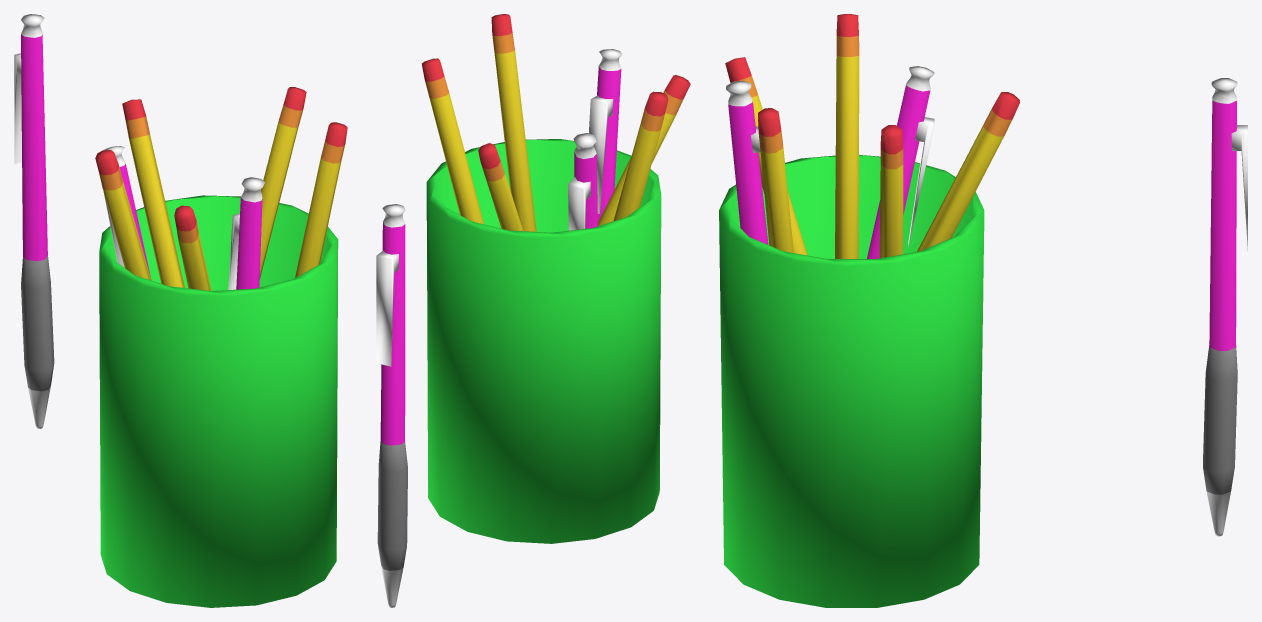
Rendered from pen pencel and cup.fbx.
The picture shows the model from 3 angles, left to right: view 1: azimuth 30°, elevation 25°; view 2: azimuth 150°, elevation 25°; view 3: azimuth 270°, elevation 25°; orthographic projection. The views are drawn at different scales.
Visible parts, largest first — view 1: Cylinder, Cube.009, Cube.002, Cube.003, Cube, Cube.006, Cube.001, Cube.004, Cube.005; view 2: Cylinder, Cube.009, Cube.003, Cube.006, Cube, Cube.001, Cube.005, Cube.002, Cube.004; view 3: Cylinder, Cube.009, Cube.001, Cube.002, Cube.006, Cube.005, Cube.003, Cube, Cube.004.
Part boxes in pixels (<box>): Cylinder: <box>99,195,338,607</box>; Cube.009: <box>14,14,54,428</box>; Cube.002: <box>122,99,184,287</box>; Cube.003: <box>295,122,347,277</box>; Cube: <box>259,87,306,279</box>; Cube.006: <box>228,177,265,289</box>; Cube.001: <box>95,150,150,280</box>; Cube.004: <box>174,205,211,290</box>; Cube.005: <box>104,146,151,279</box>; Cylinder: <box>426,139,661,543</box>; Cube.009: <box>376,204,407,607</box>; Cube.003: <box>491,14,536,231</box>; Cube.006: <box>589,49,622,221</box>; Cube: <box>422,58,483,224</box>; Cube.001: <box>613,91,668,221</box>; Cube.005: <box>568,133,597,230</box>; Cube.002: <box>478,143,522,230</box>; Cube.004: <box>598,75,690,225</box>; Cylinder: <box>719,155,984,607</box>; Cube.009: <box>1203,78,1247,536</box>; Cube.001: <box>835,14,859,258</box>; Cube.002: <box>917,92,1019,251</box>; Cube.006: <box>726,80,768,244</box>; Cube.005: <box>867,66,934,258</box>; Cube.003: <box>758,108,793,252</box>; Cube: <box>879,125,903,258</box>; Cube.004: <box>725,57,807,255</box>.
Bounding box in the file's own units: 154 × 283 × 280.
